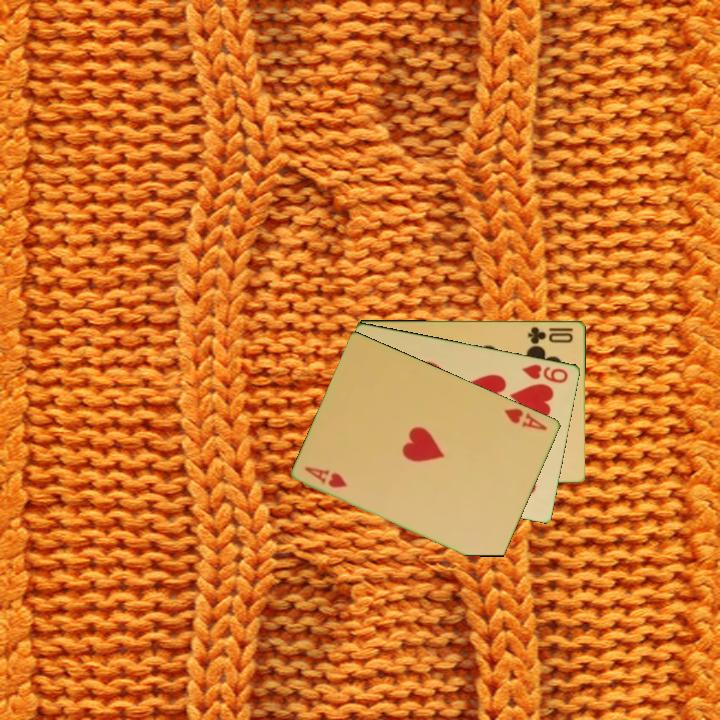10c: (525, 323, 576, 347)
9h: (519, 360, 571, 386)
Ah: (501, 404, 551, 433), (302, 463, 350, 491)
